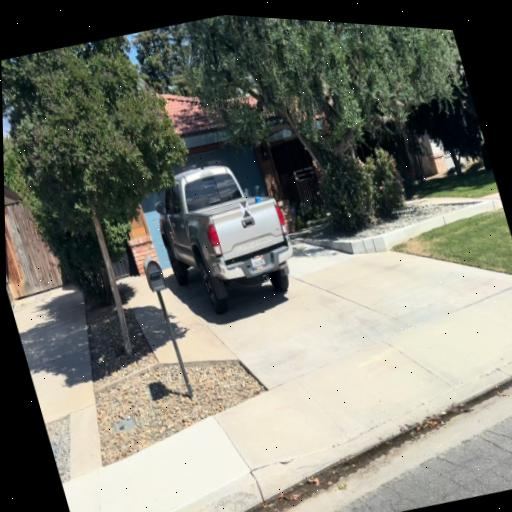target1: (239, 199, 251, 217)
